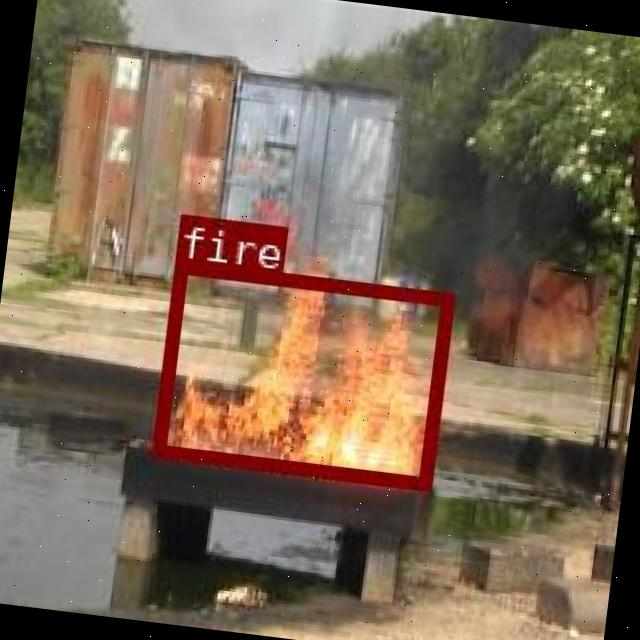fire: (148, 256, 450, 488)
